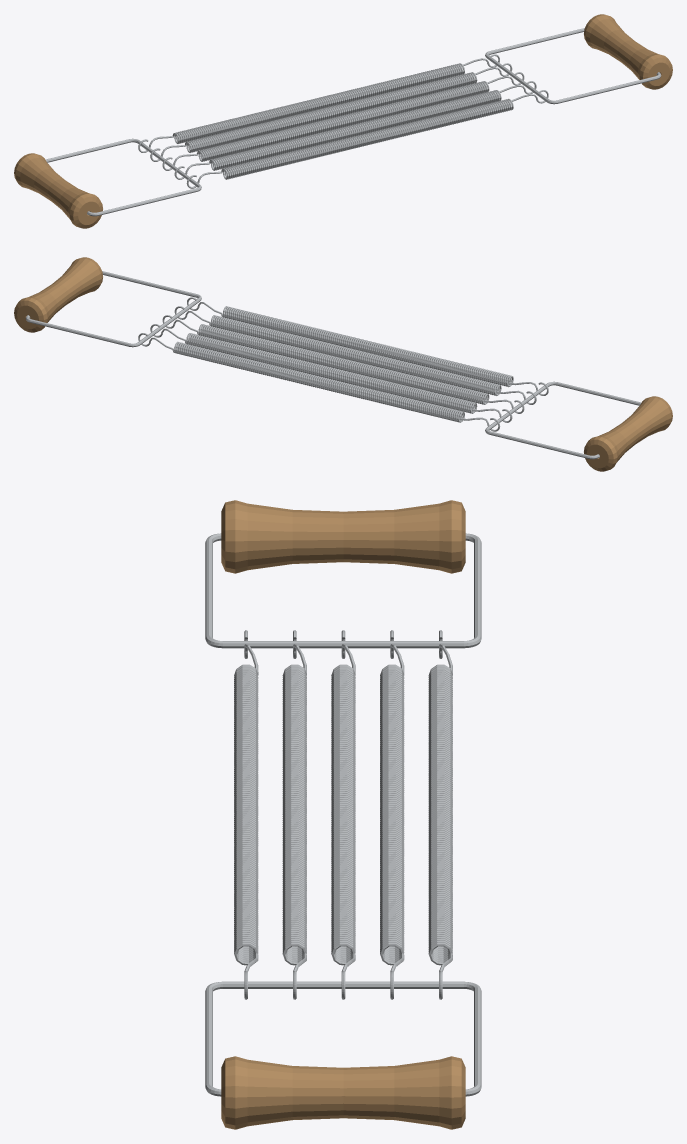
The model's file is NEW577_chest_expander_LOD0.glb.
3 views of the same model, one above another, from view 1: azimuth 30°, elevation 25°; view 2: azimuth 150°, elevation 25°; view 3: azimuth 270°, elevation 25° (orthographic). The views are drawn at different scales.
Visible parts, largest first — view 1: Spring_1, Spring_3, Spring_4, Spring_5, Spring_2, Grip_-1, Grip_1, Frame_1, Frame_-1; view 2: Spring_5, Spring_4, Spring_3, Spring_2, Spring_1, Grip_-1, Grip_1, Frame_1, Frame_-1; view 3: Grip_-1, Grip_1, Spring_3, Spring_5, Spring_1, Spring_2, Spring_4, Frame_-1, Frame_1.
Boxes of the visible parts, x1=… form: Spring_1: x1=186, y1=90, x2=548, y2=188; Spring_3: x1=162, y1=72, x2=524, y2=170; Spring_4: x1=150, y1=63, x2=512, y2=161; Spring_5: x1=138, y1=54, x2=499, y2=152; Spring_2: x1=174, y1=81, x2=536, y2=179; Grip_-1: x1=14, y1=153, x2=102, y2=228; Grip_1: x1=584, y1=14, x2=672, y2=89; Frame_1: x1=485, y1=28, x2=661, y2=104; Frame_-1: x1=45, y1=138, x2=201, y2=216; Spring_5: x1=138, y1=333, x2=500, y2=431; Spring_4: x1=150, y1=324, x2=512, y2=422; Spring_3: x1=162, y1=315, x2=524, y2=413; Spring_2: x1=174, y1=306, x2=536, y2=404; Spring_1: x1=187, y1=297, x2=548, y2=395; Grip_-1: x1=584, y1=396, x2=672, y2=471; Grip_1: x1=14, y1=257, x2=102, y2=332; Frame_1: x1=25, y1=271, x2=201, y2=347; Frame_-1: x1=485, y1=381, x2=641, y2=459; Grip_-1: x1=221, y1=500, x2=465, y2=573; Grip_1: x1=221, y1=1056, x2=465, y2=1129; Spring_3: x1=331, y1=630, x2=355, y2=999; Spring_5: x1=428, y1=630, x2=452, y2=999; Spring_1: x1=234, y1=630, x2=258, y2=999; Spring_2: x1=282, y1=630, x2=306, y2=999; Spring_4: x1=380, y1=630, x2=404, y2=999; Frame_-1: x1=205, y1=533, x2=481, y2=648; Frame_1: x1=205, y1=981, x2=481, y2=1096.
Bounding box in the file's own units: 0.6 × 0.032 × 0.1193.
